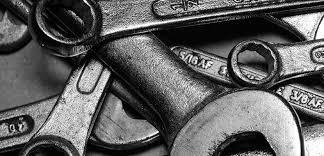wrench: (165, 86, 305, 155), (25, 0, 135, 57), (225, 37, 323, 88), (89, 88, 162, 151), (17, 132, 81, 155)
